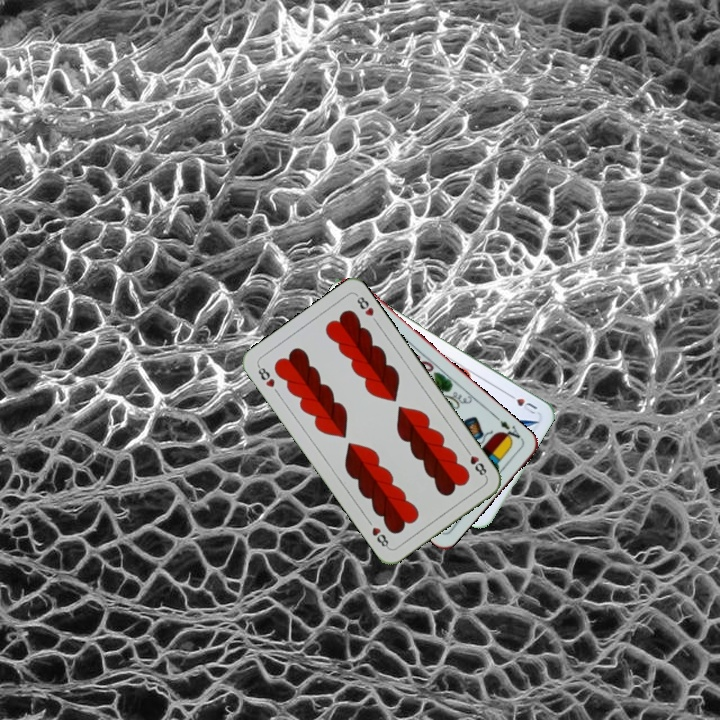EA: (495, 416, 525, 445)
H8: (461, 444, 490, 480), (253, 361, 277, 390)
HU: (503, 389, 540, 417)
